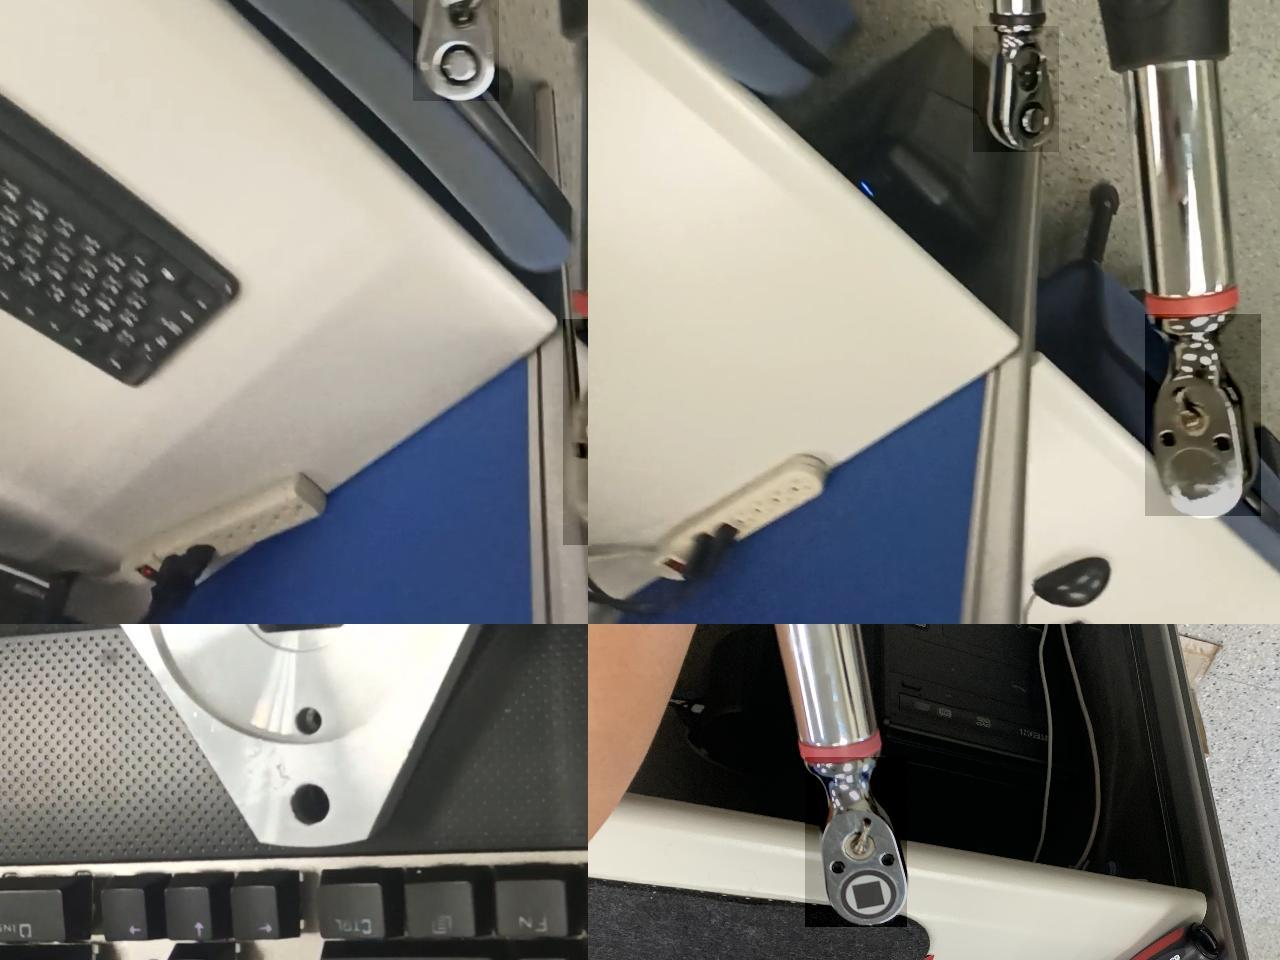Tool: (1145, 314, 1261, 516), (805, 757, 907, 927), (973, 26, 1059, 152), (413, 0, 499, 101), (563, 319, 588, 545)
